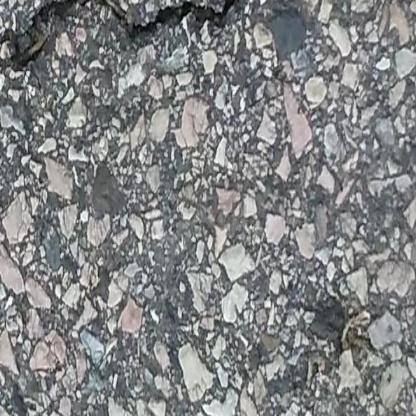Cracks: (0, 0, 258, 73)
